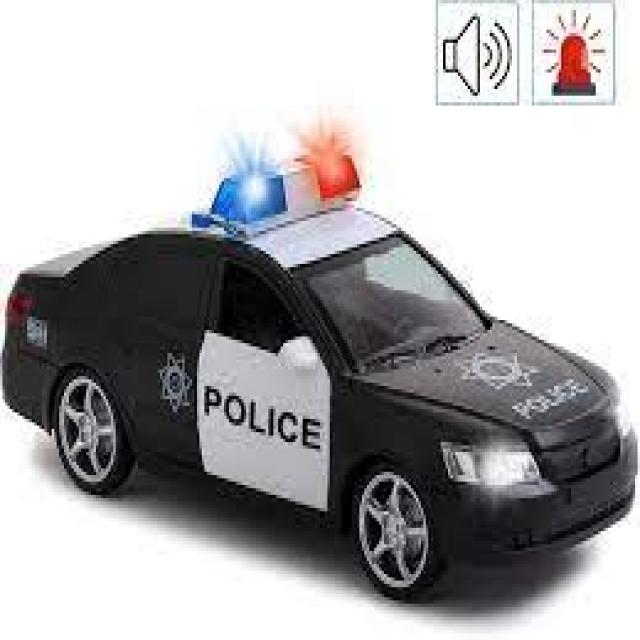Car: (5, 201, 635, 597)
